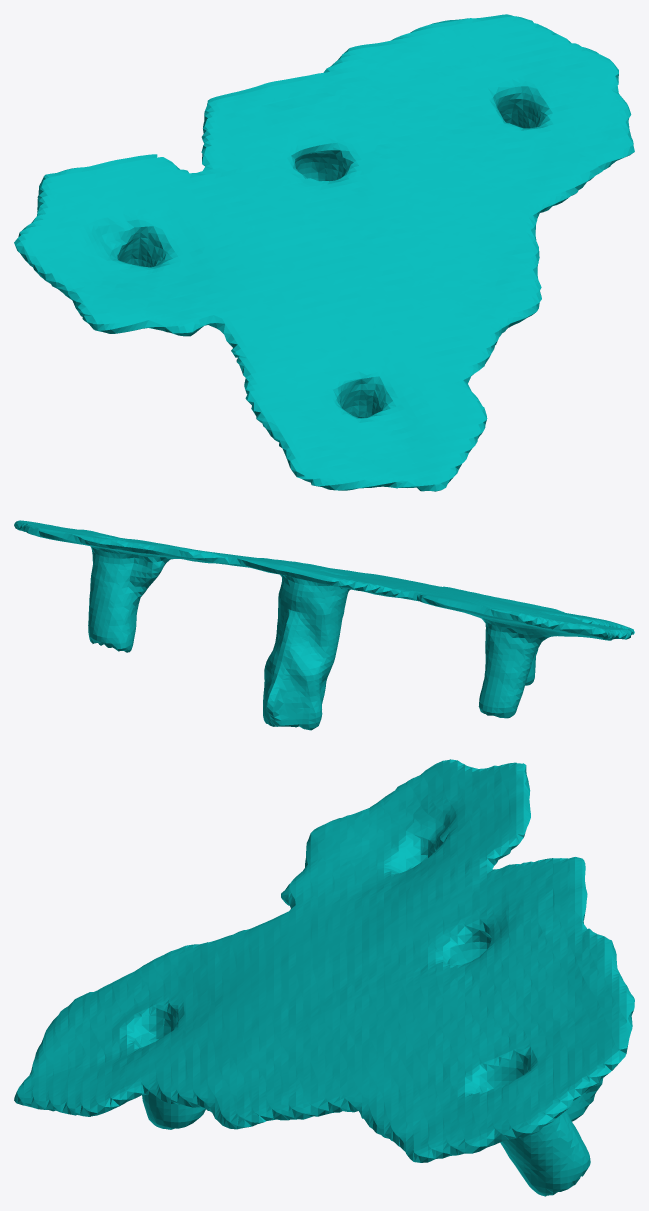
3 renders of one model, top to bottom at view 1: azimuth 30°, elevation 25°; view 2: azimuth 150°, elevation 25°; view 3: azimuth 270°, elevation 25°, orthographic. The views are drawn at different scales.
Bounding box in the file's own units: 1.02 × 0.3757 × 0.732.
